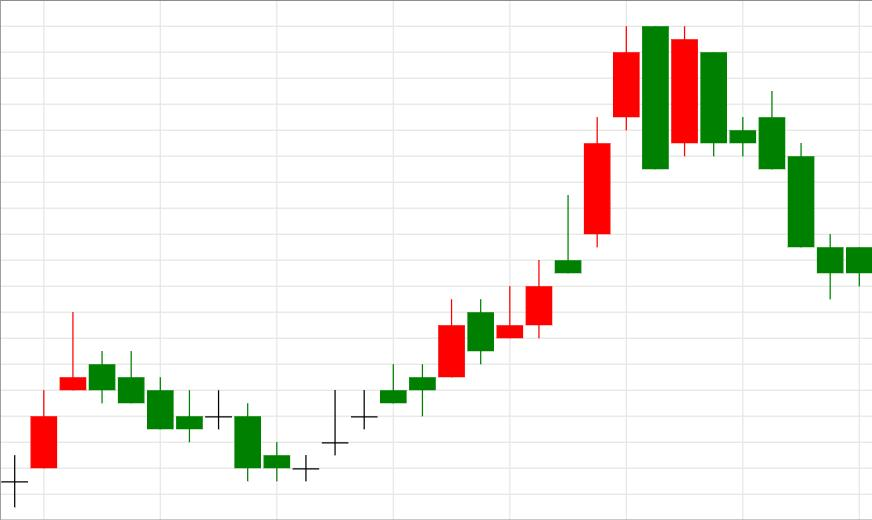bearish_engulfing_fall: (292, 26, 670, 481)
